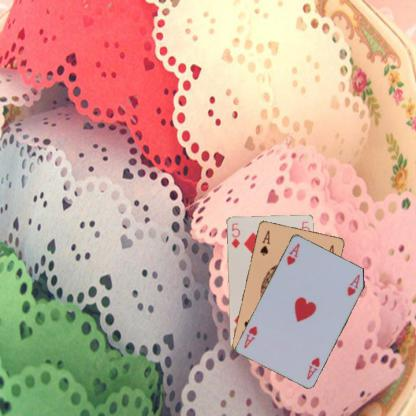5d: (229, 220, 241, 249)
Ah: (304, 355, 321, 381), (284, 240, 300, 266)
As: (258, 228, 271, 257)
